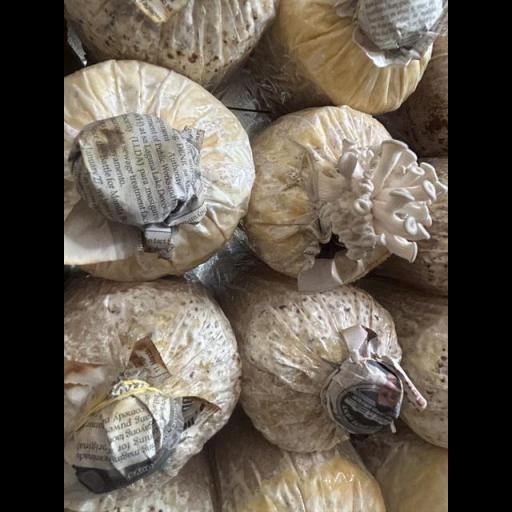White Oyster Mushroom: (313, 135, 448, 267)
